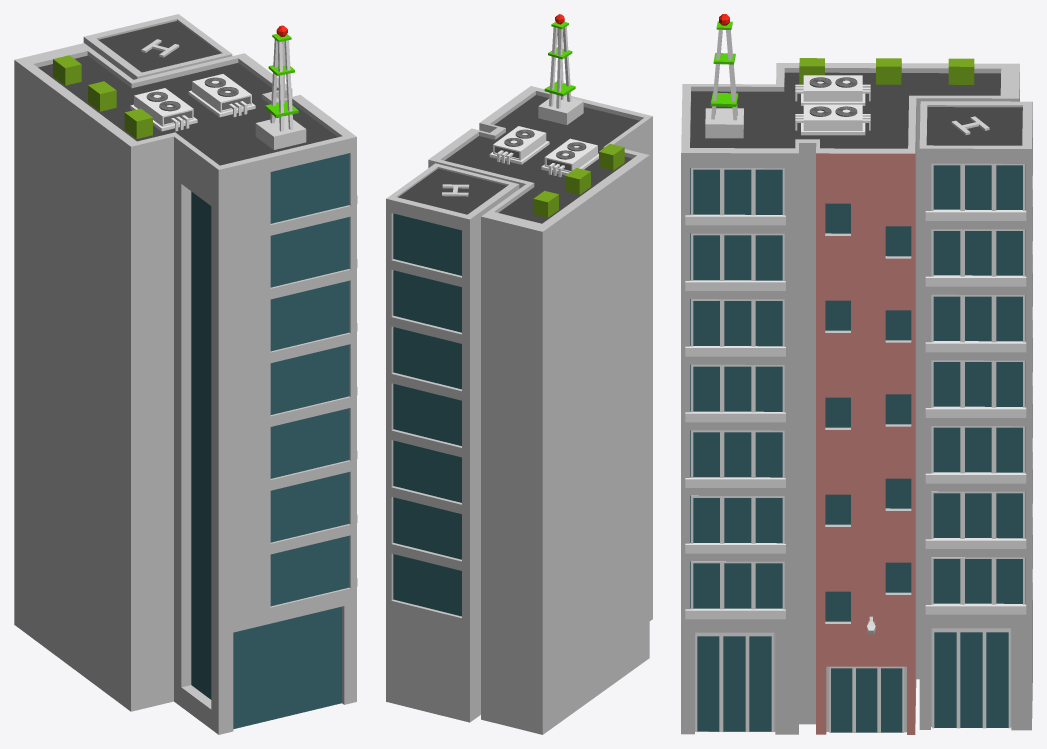
File: Building_17_tran.glb
3 renders of one model, left to right at view 1: azimuth 30°, elevation 25°; view 2: azimuth 150°, elevation 25°; view 3: azimuth 270°, elevation 25°, orthographic. The views are drawn at different scales.
Visible parts, largest first — view 1: Cube.063, Cube.061, Cube.060, Cube.11374, Cube.062, Cube.056, Cube.058, Cube.059; view 2: Cube.063, Cube.061, Cube.060, Cube.11374, Cube.062, Cube.059, Cube.058, Cube.056; view 3: Cube.063, Cube.13681, Cube.13680, Cube.13678, Cube.13679, Cube.13677, Cube.061, Cube.060, Cube.062, Cube.11374, Cube.056, Cube.058.
Part boxes in pixels (box(x1,y1,x2,y2)): Cube.063: box(14, 14, 356, 734); Cube.061: box(188, 74, 255, 117); Cube.060: box(130, 88, 197, 131); Cube.11374: box(270, 39, 293, 131); Cube.062: box(255, 115, 306, 149); Cube.056: box(53, 55, 81, 85); Cube.058: box(88, 81, 116, 111); Cube.059: box(124, 108, 152, 138); Cube.063: box(386, 86, 652, 734); Cube.061: box(489, 126, 549, 164); Cube.060: box(541, 138, 598, 177); Cube.11374: box(548, 26, 571, 108); Cube.062: box(538, 94, 583, 125); Cube.059: box(599, 143, 624, 170); Cube.058: box(565, 168, 590, 194); Cube.056: box(533, 190, 558, 217); Cube.063: box(681, 63, 1032, 734); Cube.13681: box(925, 163, 1026, 614); Cube.13680: box(685, 168, 785, 619); Cube.13678: box(932, 628, 1010, 728); Cube.13679: box(695, 632, 773, 732); Cube.13677: box(829, 666, 904, 732); Cube.061: box(795, 104, 870, 135); Cube.060: box(795, 75, 870, 105); Cube.062: box(705, 108, 743, 138); Cube.11374: box(711, 29, 737, 120); Cube.056: box(948, 58, 974, 84); Cube.058: box(876, 58, 901, 84).
Bounding box in the file's own units: 0.2246 × 0.6766 × 0.3114.
